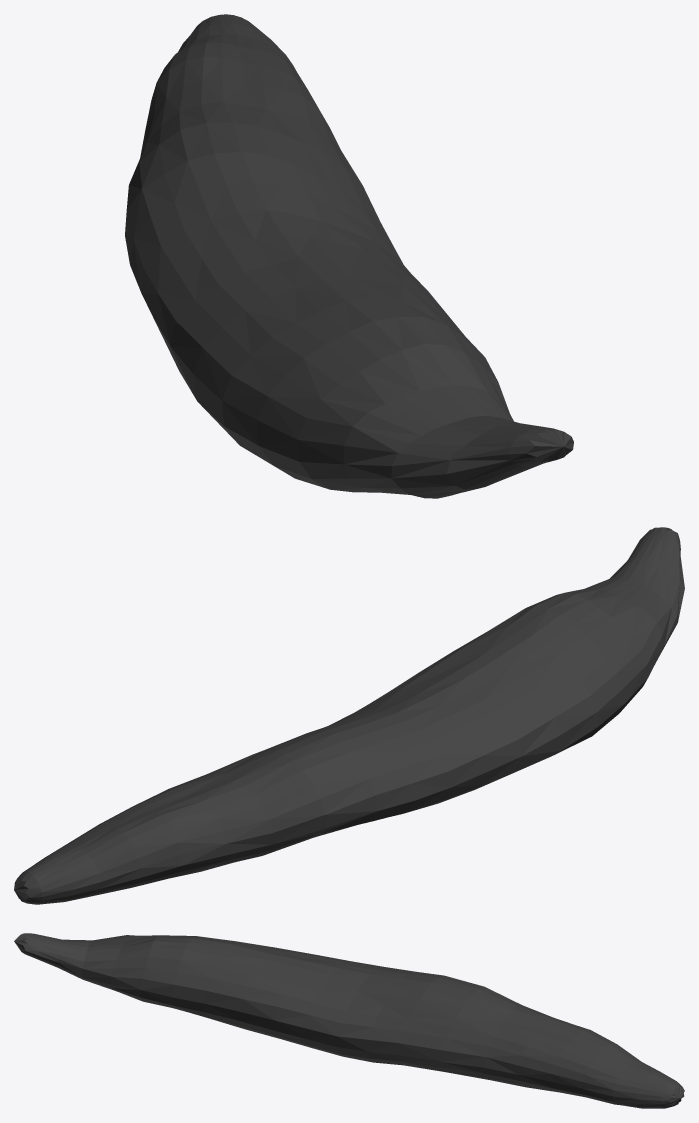
Rendered from UlnarisLateralis_1.glb.
3 renders of one model, top to bottom at view 1: azimuth 30°, elevation 25°; view 2: azimuth 150°, elevation 25°; view 3: azimuth 270°, elevation 25°, orthographic. The views are drawn at different scales.
Parts seen in each view (by area): view 1: UlnarisLateralis_1; view 2: UlnarisLateralis_1; view 3: UlnarisLateralis_1.
Boxes of the visible parts, box(x1,y1,x2,y2) form: UlnarisLateralis_1: box(125, 14, 573, 498); UlnarisLateralis_1: box(14, 527, 684, 904); UlnarisLateralis_1: box(14, 933, 684, 1108).
Size of the model in its own units: 0.00876 by 0.00356 by 0.0218.
Materials: 1 (1 with a texture image).
